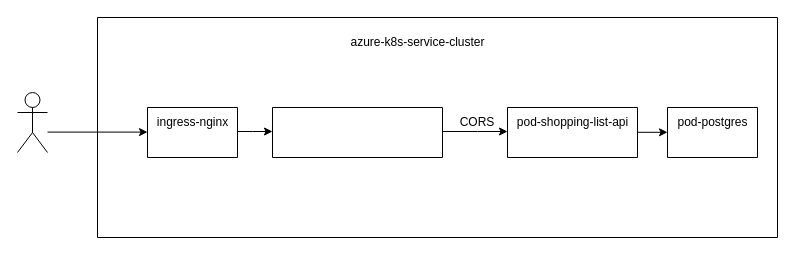
Some shapes in this 795 by 255 pixel diagram are drawn without their labels. Here are the shapes that lost their labels. From the top down, the centre of each, then its label:
point (32, 122): Actor
point (357, 132): pod-shopping-list-front-end
